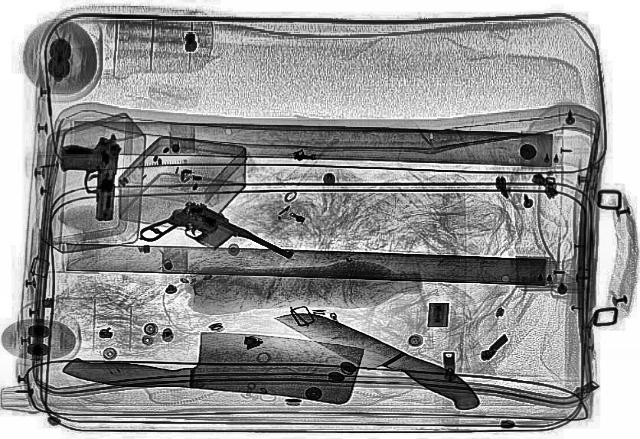Gun: (132, 194, 298, 290), (56, 135, 122, 221)
Knife: (263, 300, 497, 414), (60, 320, 364, 405)
